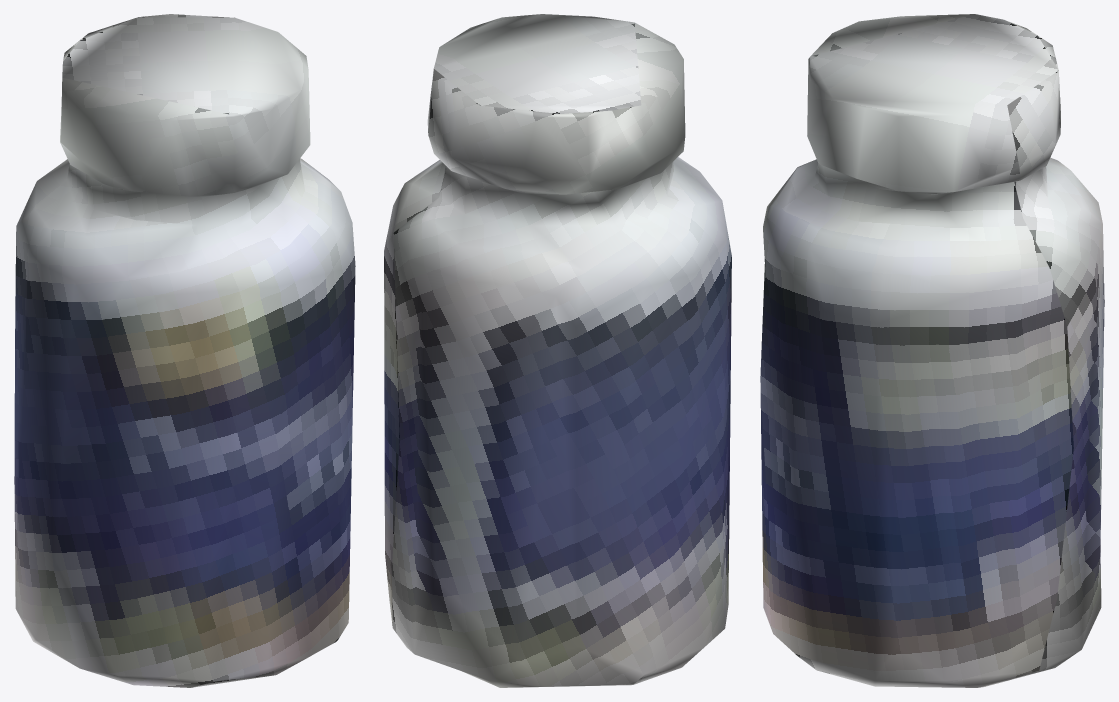
File: Theanine-low.glb
3 views of the same model, side by side, from view 1: azimuth 30°, elevation 25°; view 2: azimuth 150°, elevation 25°; view 3: azimuth 270°, elevation 25° (orthographic).
Parts seen in each view (by area): view 1: Theanine; view 2: Theanine; view 3: Theanine.
Boxes of the visible parts, <box> form: Theanine: <box>14,14,355,687</box>; Theanine: <box>384,14,731,687</box>; Theanine: <box>760,14,1104,687</box>.
Bounding box in the file's own units: 0.0534 × 0.0973 × 0.0534.
1 material, 1 textured.
